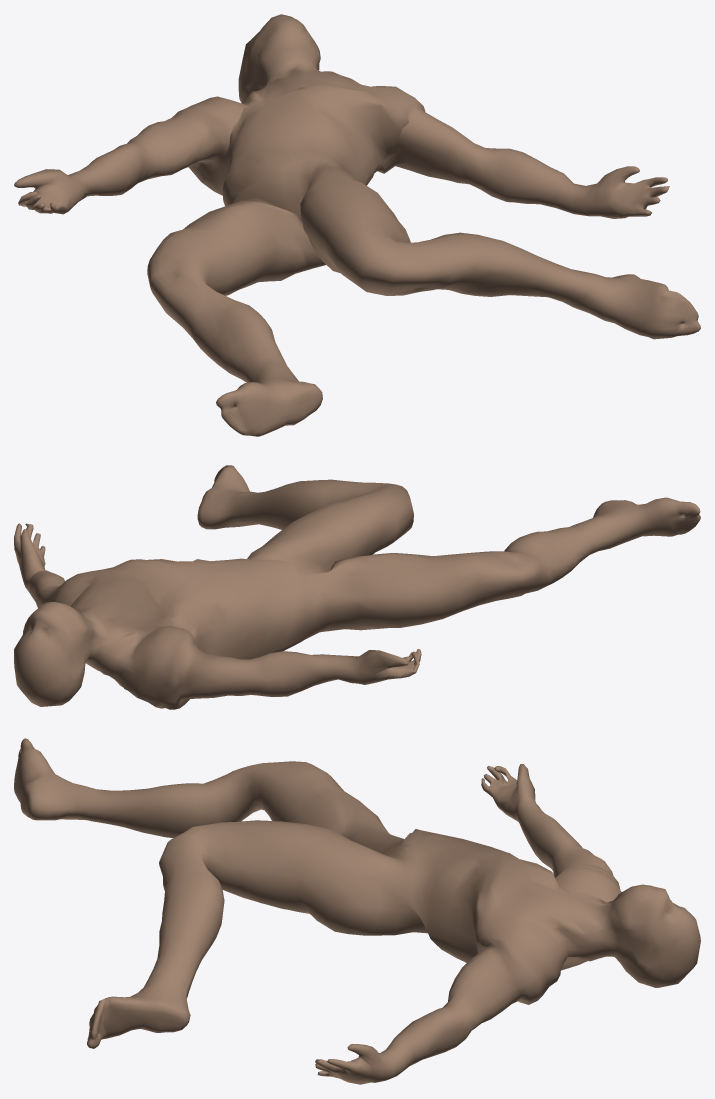
Rendered from Dead zombie.fbx.
3 views of the same model, one above another, from view 1: azimuth 30°, elevation 25°; view 2: azimuth 150°, elevation 25°; view 3: azimuth 270°, elevation 25° (orthographic). The views are drawn at different scales.
Parts seen in each view (by area): view 1: Zombie002; view 2: Zombie002; view 3: Zombie002.
Part boxes in pixels (bbox=[...]): Zombie002: bbox=[14, 14, 700, 436]; Zombie002: bbox=[14, 465, 700, 709]; Zombie002: bbox=[14, 738, 700, 1084].
Bounding box in the file's own units: 142 × 29.25 × 148.
